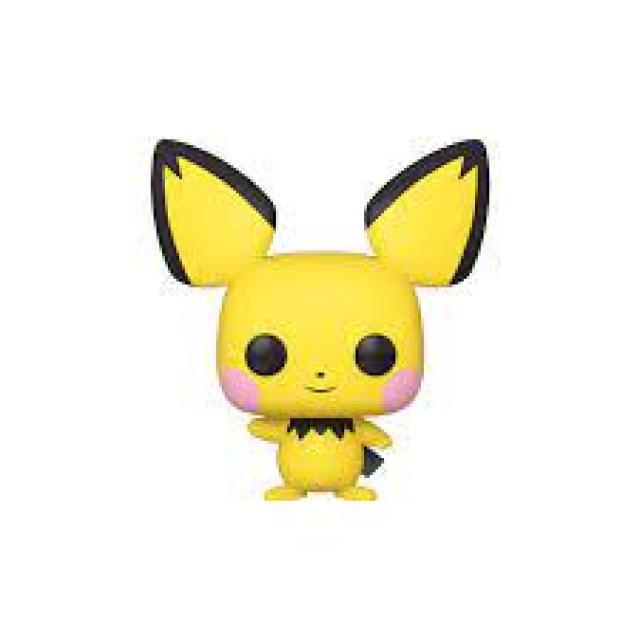pichu: (144, 148, 503, 503)
